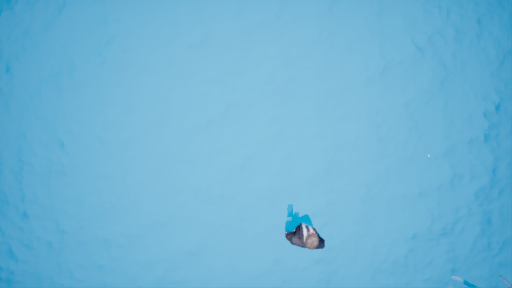person: (279, 203, 331, 248)
